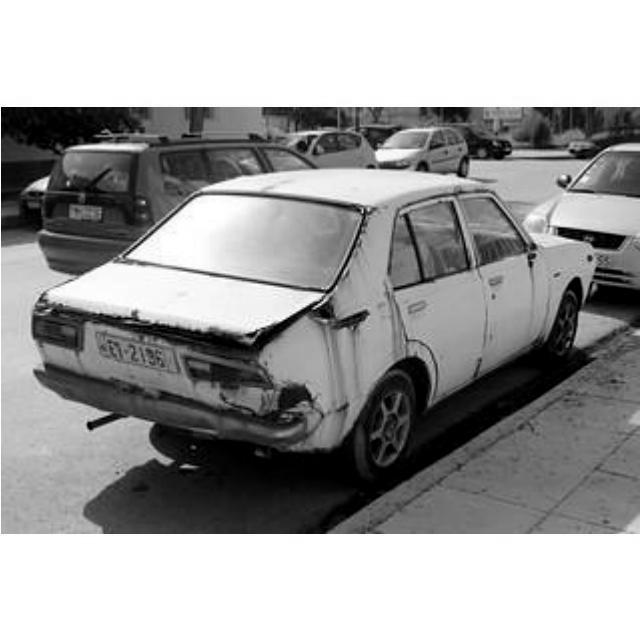doorouter-dent: (482, 265, 546, 365)
quaterpanel-dent: (319, 293, 401, 397)
rear-bumper-dent: (121, 369, 311, 447)
roof-dent: (197, 164, 457, 210)
